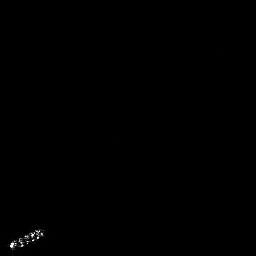ship: (9, 225, 46, 252)
